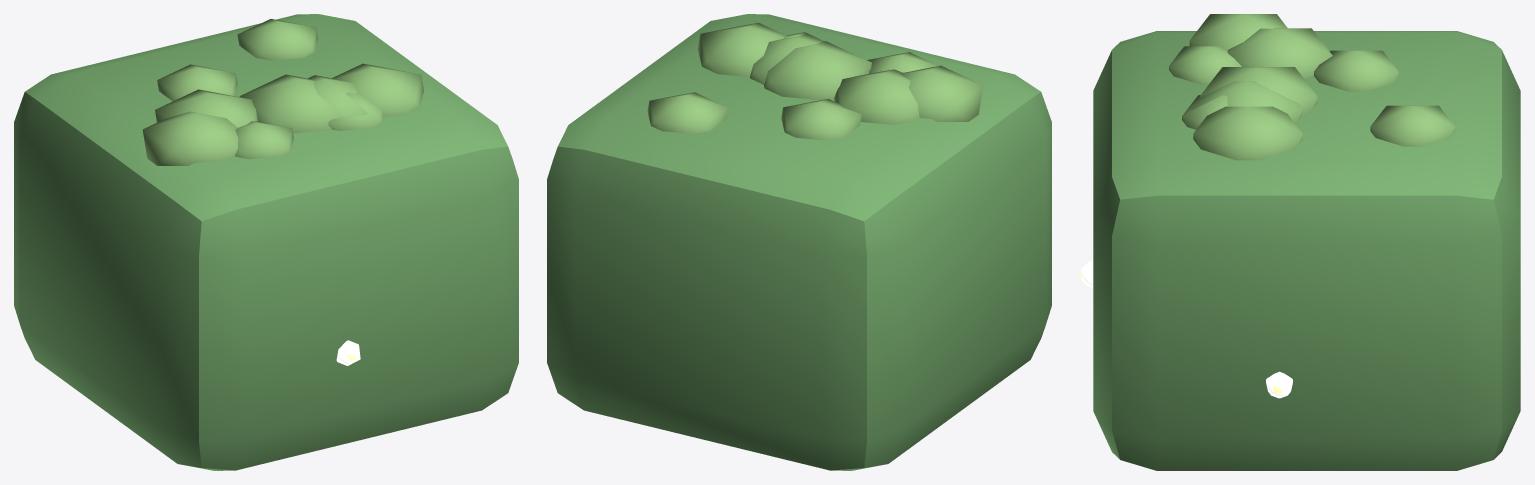
File: hedge.glb
3 views of the same model, side by side, from view 1: azimuth 30°, elevation 25°; view 2: azimuth 150°, elevation 25°; view 3: azimuth 270°, elevation 25° (orthographic). The views are drawn at different scales.
Visible parts, largest first — view 1: hedge; view 2: hedge; view 3: hedge.
Boxes of the visible parts, x1=… form: hedge: x1=14, y1=14, x2=518, y2=470; hedge: x1=547, y1=14, x2=1051, y2=470; hedge: x1=1080, y1=14, x2=1520, y2=470.
Bounding box in the file's own units: 0.9682 × 0.8312 × 0.9684.
